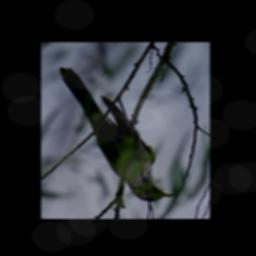Cuckoo: (53, 65, 173, 203)
